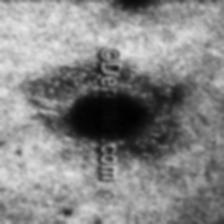Potentially Malignant Skin Tumors: (74, 91, 98, 141), (119, 93, 142, 139)
